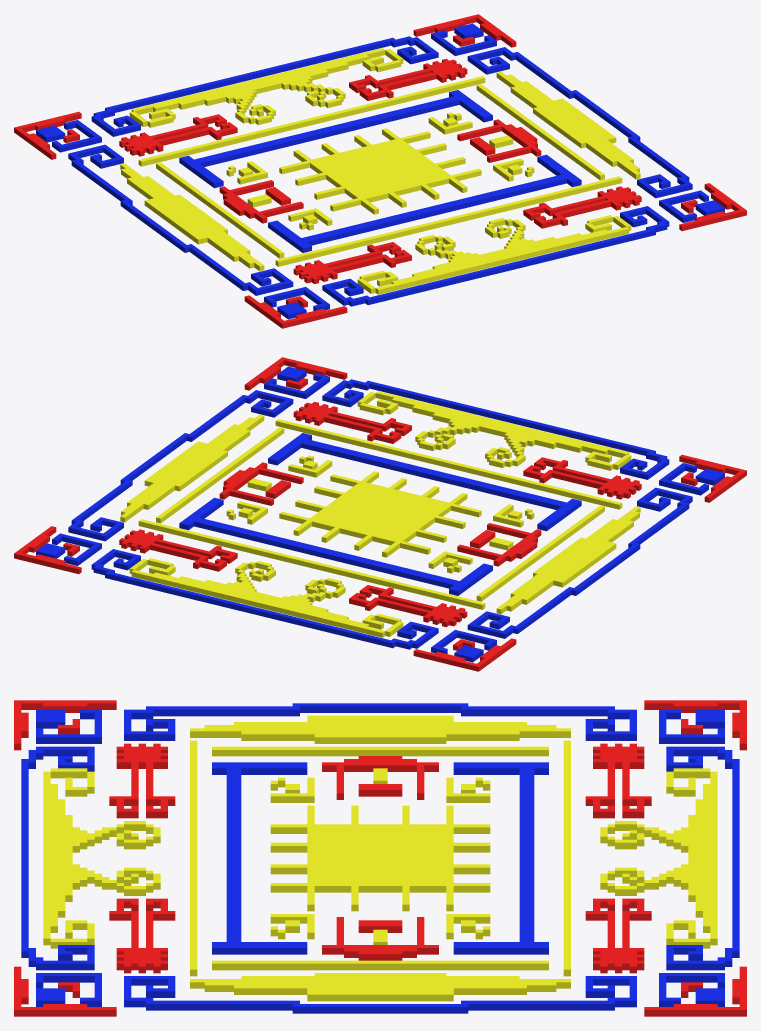
File: Perrigie-2.obj
3 views of the same model, one above another, from view 1: azimuth 30°, elevation 25°; view 2: azimuth 150°, elevation 25°; view 3: azimuth 270°, elevation 25° (orthographic). The views are drawn at different scales.
Size of the model in its own units: 10 by 0.1 by 10.
1 material, 1 textured.
